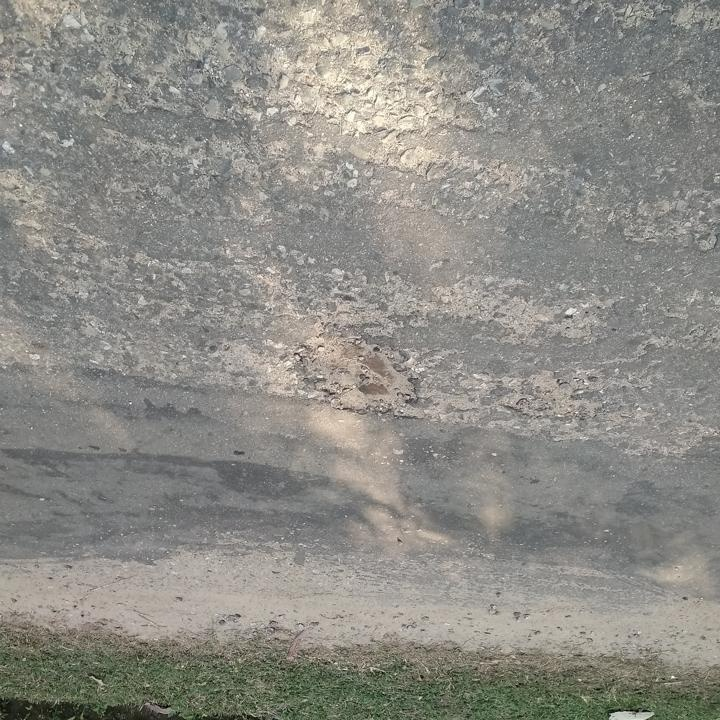pothole: (294, 332, 423, 423)
